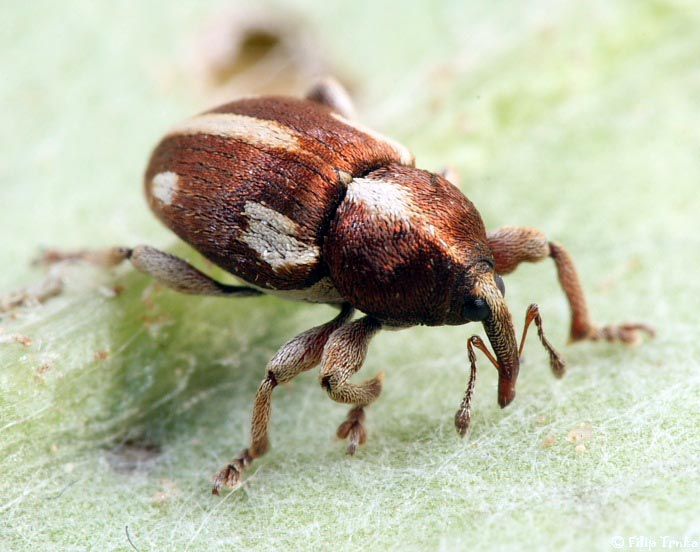dolgonosik: (101, 58, 661, 512)
